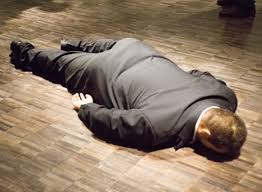collapsed: (2, 10, 262, 188)
